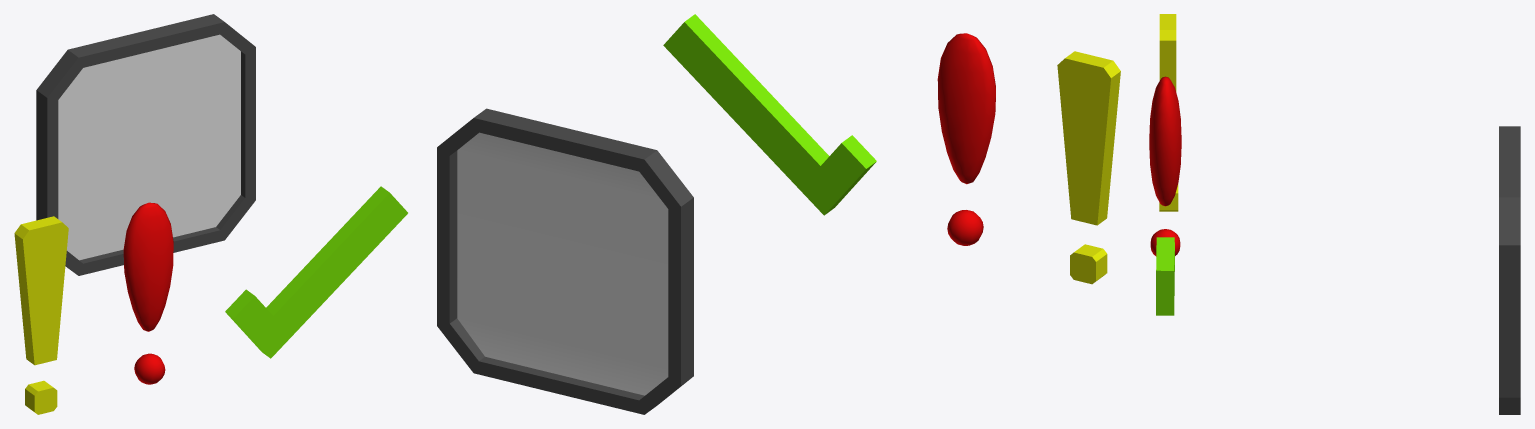
File: clarkPatron_Highlights_FBX.fbx
3 views of the same model, side by side, from view 1: azimuth 30°, elevation 25°; view 2: azimuth 150°, elevation 25°; view 3: azimuth 270°, elevation 25° (orthographic). The views are drawn at different scales.
Visible parts, largest first — view 1: pCube5, pCube3, pCube4, pSphere3; view 2: pCube5, pCube3, pCube4, pSphere3; view 3: pCube5, pSphere3, pCube3, pCube4.
Part boxes in pixels (x1=…): pCube5: x1=36, y1=14, x2=255, y2=275; pCube3: x1=225, y1=186, x2=407, y2=358; pCube4: x1=14, y1=216, x2=68, y2=414; pSphere3: x1=123, y1=202, x2=173, y2=384; pCube5: x1=437, y1=108, x2=693, y2=414; pCube3: x1=663, y1=14, x2=876, y2=215; pCube4: x1=1057, y1=51, x2=1120, y2=284; pSphere3: x1=937, y1=33, x2=995, y2=245; pCube5: x1=1499, y1=126, x2=1520, y2=414; pSphere3: x1=1149, y1=76, x2=1181, y2=256; pCube3: x1=1156, y1=237, x2=1174, y2=315; pCube4: x1=1159, y1=14, x2=1178, y2=211.
Bounding box in the file's own units: 11.15 × 5.91 × 8.92.
